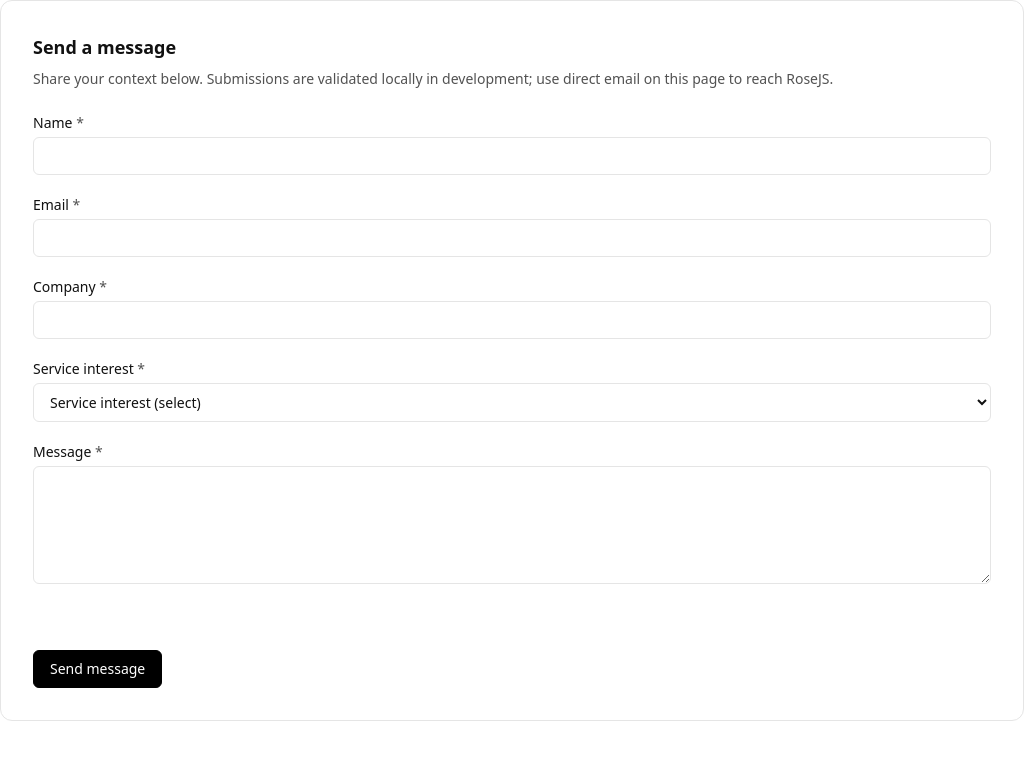
Test: ContactForm › shows error for invalid email format
In the field labelled "Name *": (512, 156) [33, 137, 991, 175], type "Jane"
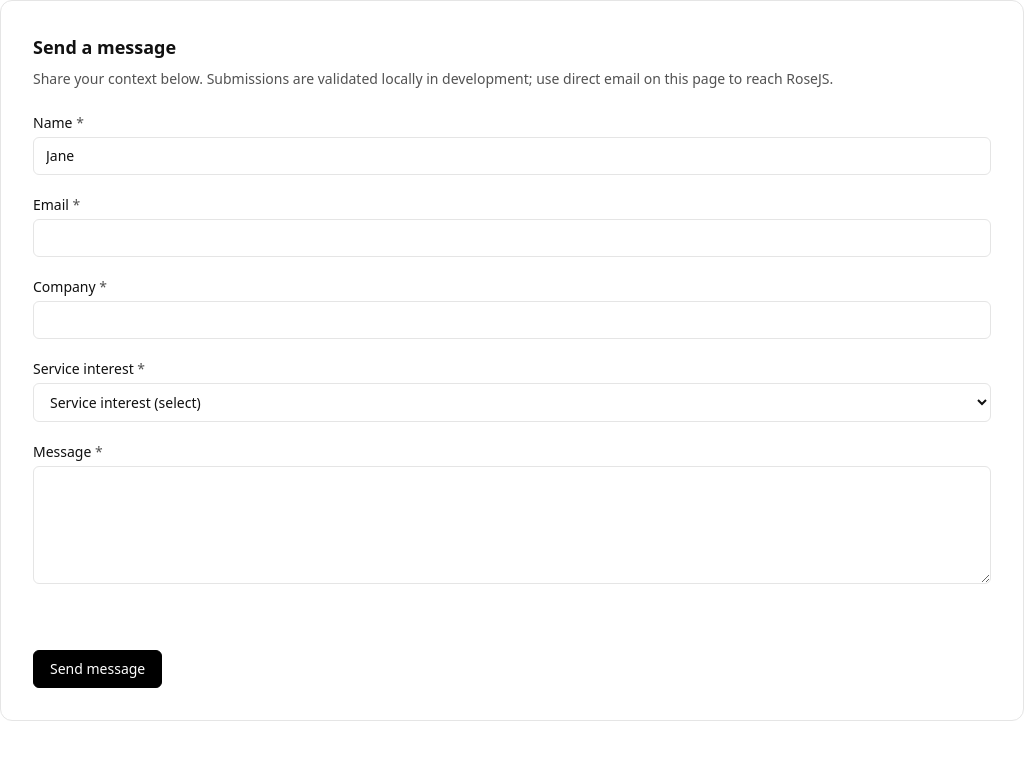
In the field labelled "Email *": (512, 238) [33, 219, 991, 257], type "not-an-email"
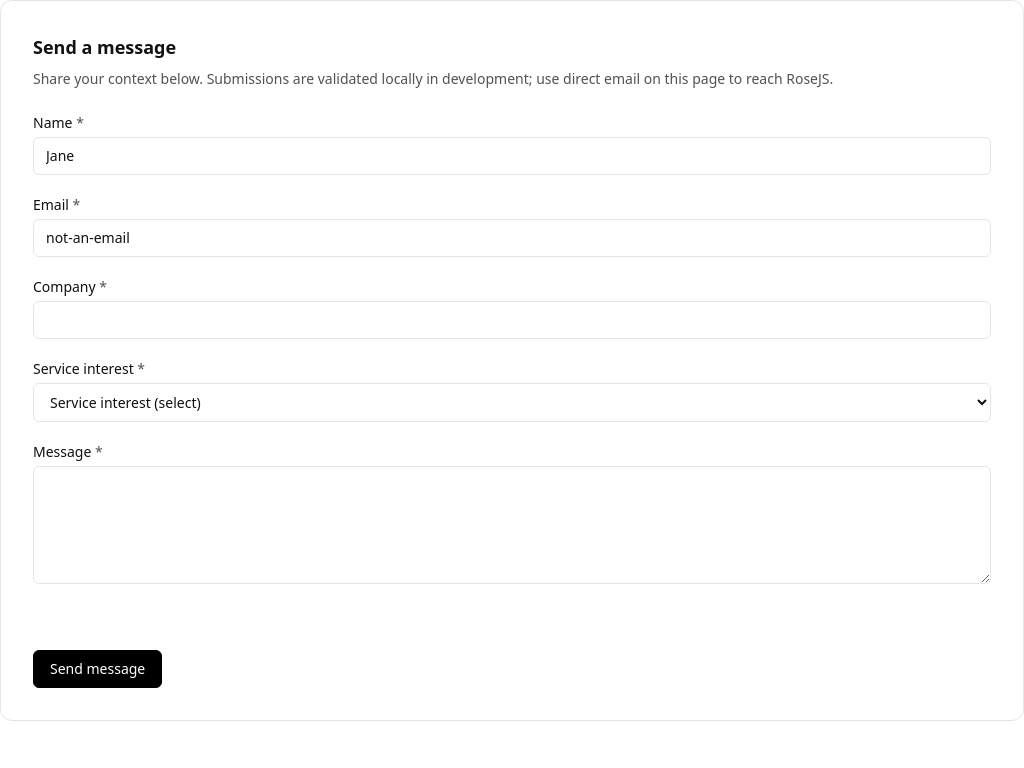
In the field labelled "Company *": (512, 320) [33, 301, 991, 339], type "Acme"
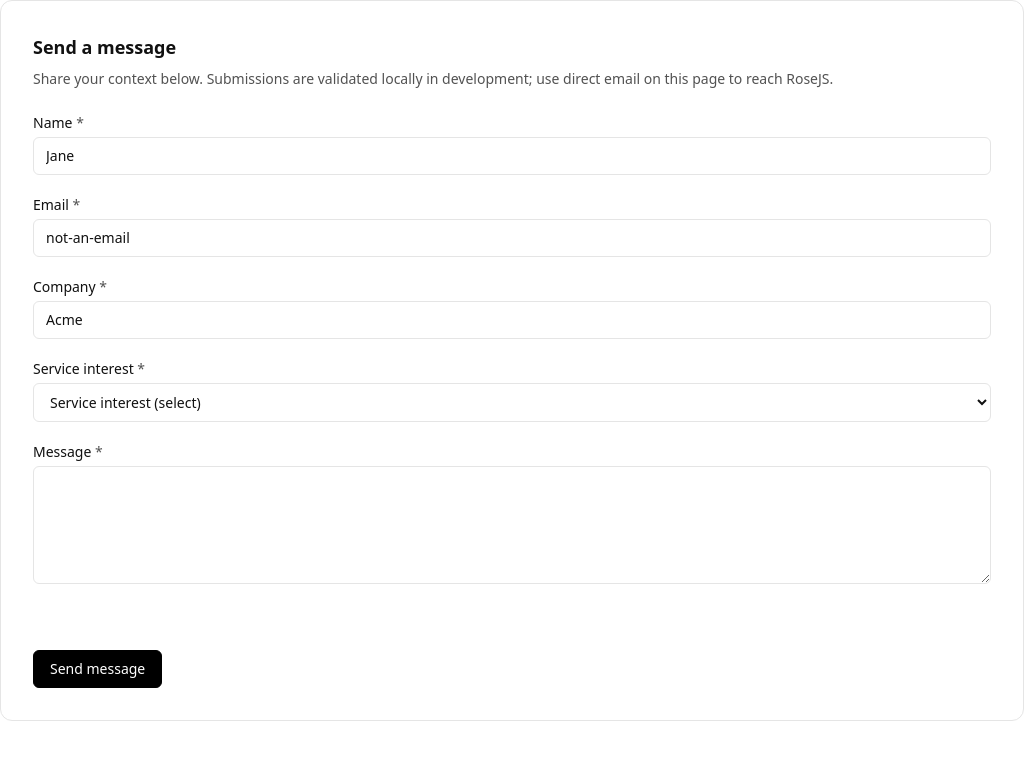
Select "Other / not sure yet" in the dropdown labelled "Service interest *": (512, 402) [33, 383, 991, 422]
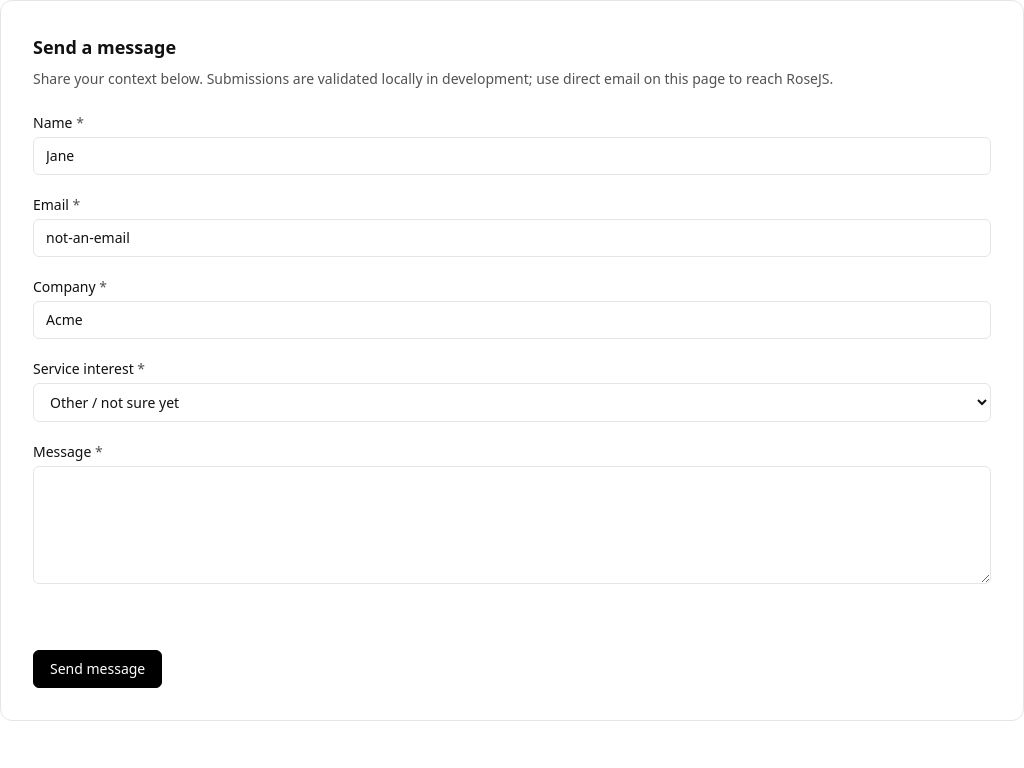
In the text box labelled "Message *": (512, 525) [33, 466, 991, 584], type "Hi"
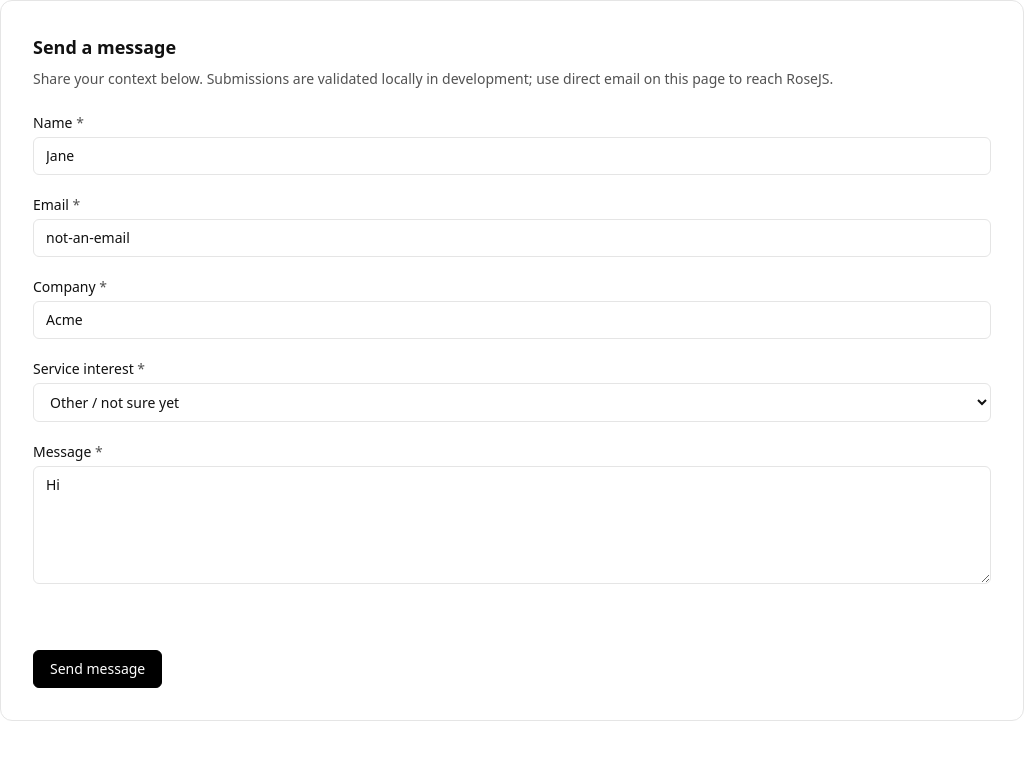
Click the button "Send message": (98, 669) [33, 650, 162, 688]
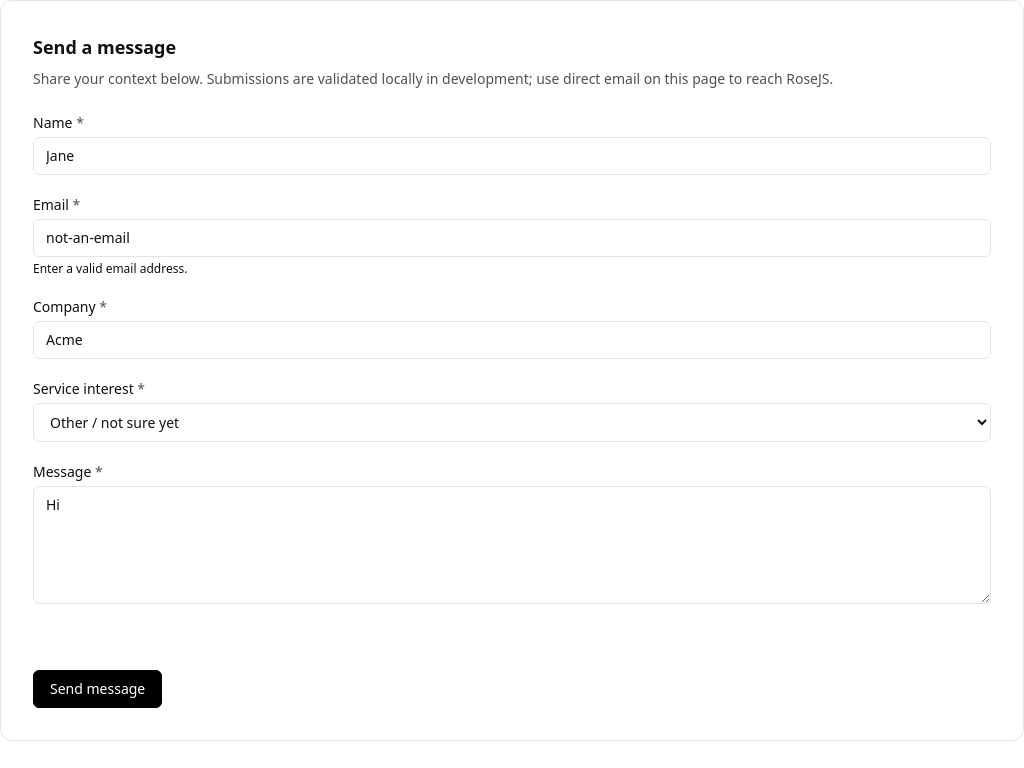
Expected: the text "Enter a valid email address." is shown, [33, 260, 187, 277]
